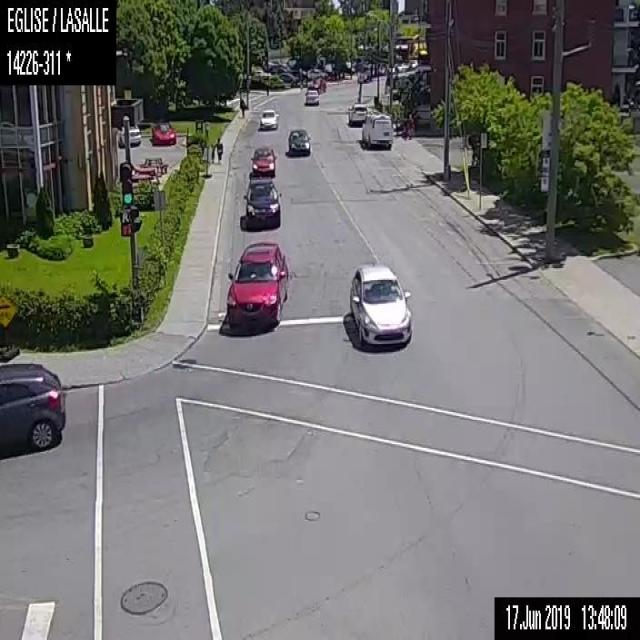pedestrian: (404, 111, 415, 139), (214, 136, 222, 159), (238, 98, 246, 118)
vehicle: (0, 360, 65, 450), (225, 238, 290, 326), (348, 260, 412, 344), (242, 178, 282, 227), (360, 112, 392, 149), (248, 145, 277, 177), (286, 125, 311, 156), (150, 120, 177, 146), (346, 101, 368, 123), (118, 126, 142, 146), (258, 106, 276, 130), (308, 76, 325, 92), (303, 88, 319, 105), (280, 72, 298, 84)
